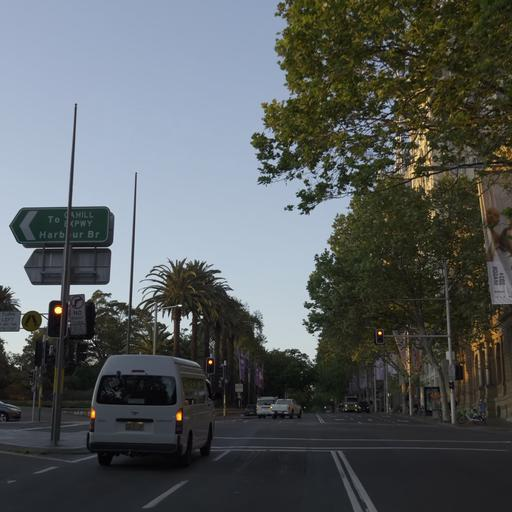Street light: (47, 299, 64, 337), (374, 327, 384, 344), (205, 357, 214, 375)
